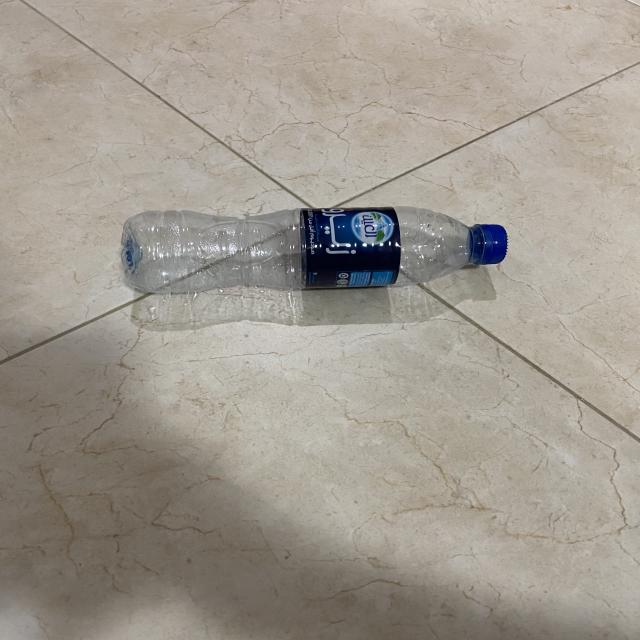bottle: (116, 203, 511, 296)
